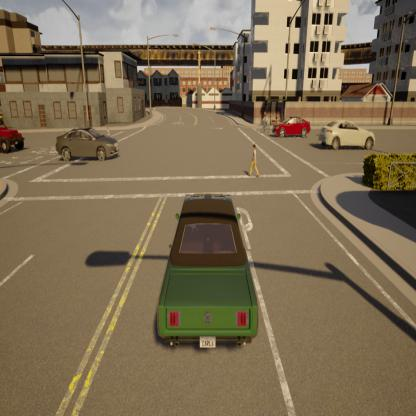Cars: (142, 179, 269, 369), (56, 124, 122, 167), (318, 116, 382, 153), (266, 113, 314, 138), (0, 115, 27, 157)
Pedestrian: (247, 138, 262, 182), (102, 122, 114, 146)
